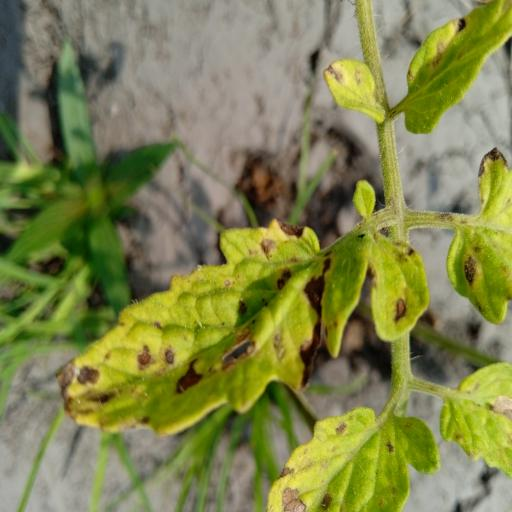Tomato_Brown_Spots: (57, 210, 329, 447), (267, 404, 442, 512), (400, 0, 511, 141)
